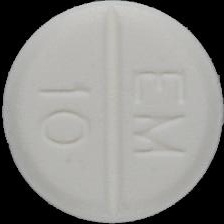53808-0850: (0, 0, 224, 224)
